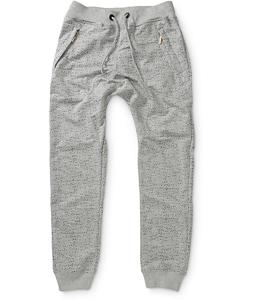C_W_pants: (42, 1, 197, 292)
